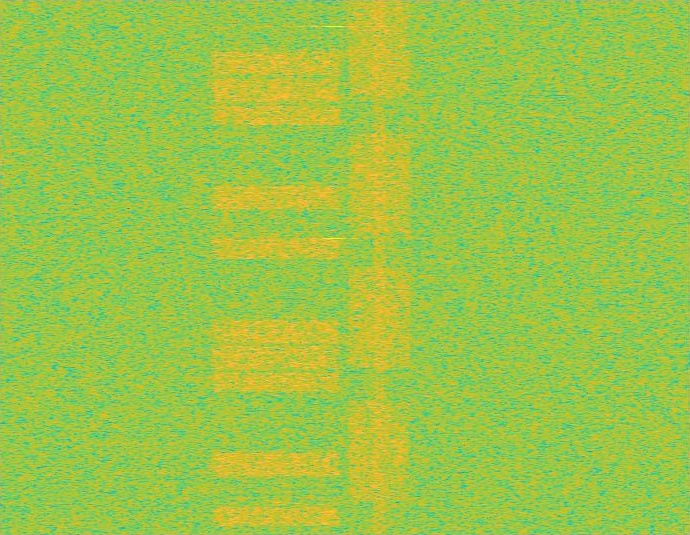5G: (345, 0, 414, 534)
DSSS: (372, 0, 387, 534)
LTE: (207, 0, 345, 534)
Radar: (327, 0, 341, 534)
